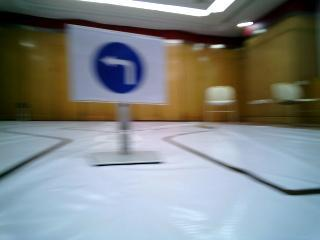left: (76, 37, 161, 107)
